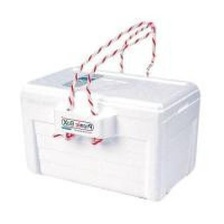foam_box: (13, 15, 208, 205)
